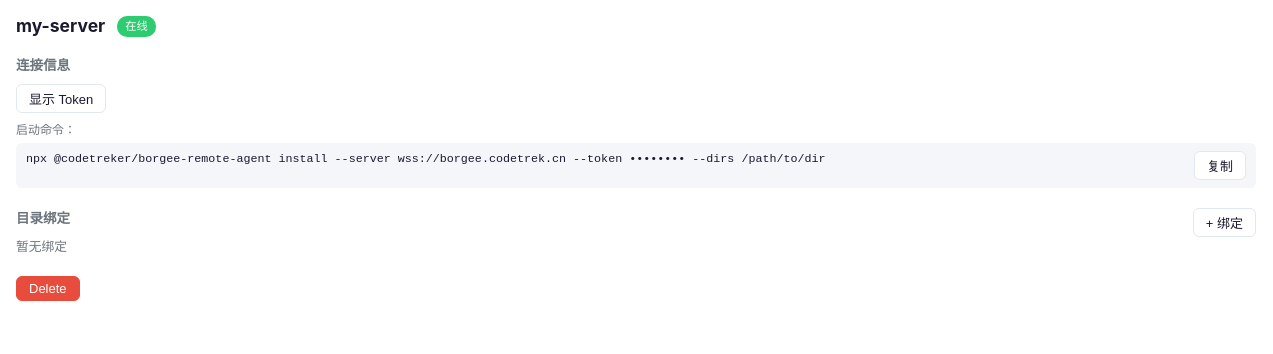
Test: NodeDetail — connection token surfaced once at create › ① "显示 Token" reveals the token value passed from the create response
This screenshot has width=1273, height=354.
Step 1. Click the button "显示 Token" → click(61, 98), box [16, 84, 106, 113]
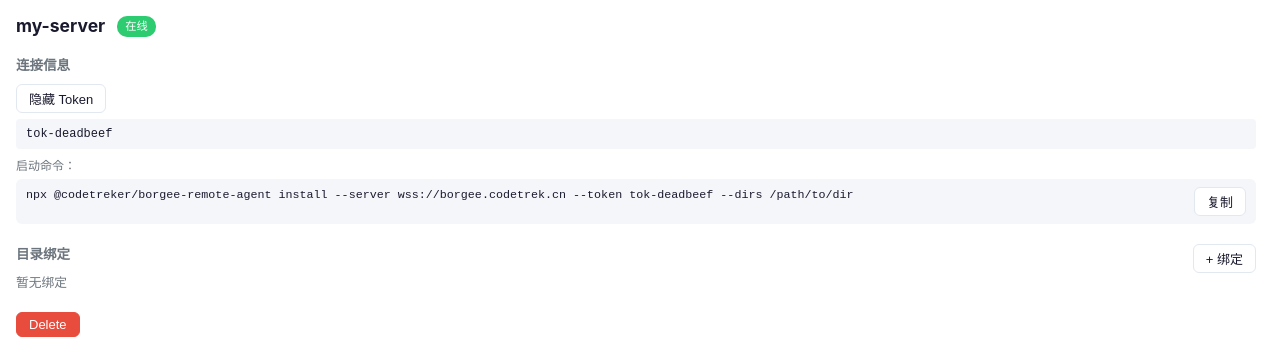
Result: the text "tok-deadbeef" is shown at [16, 119, 1256, 149]
Result: the text with class "node-token" reads "tok-deadbeef" at [26, 127, 112, 141]
